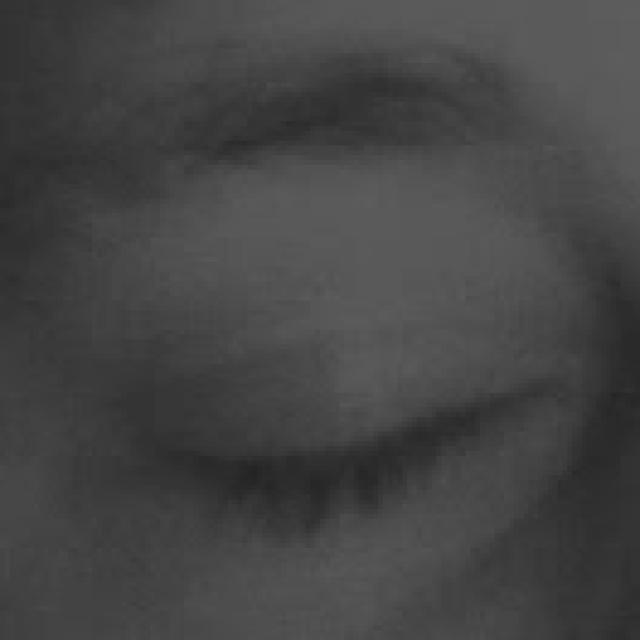Eyeclosed: (140, 252, 536, 640)
